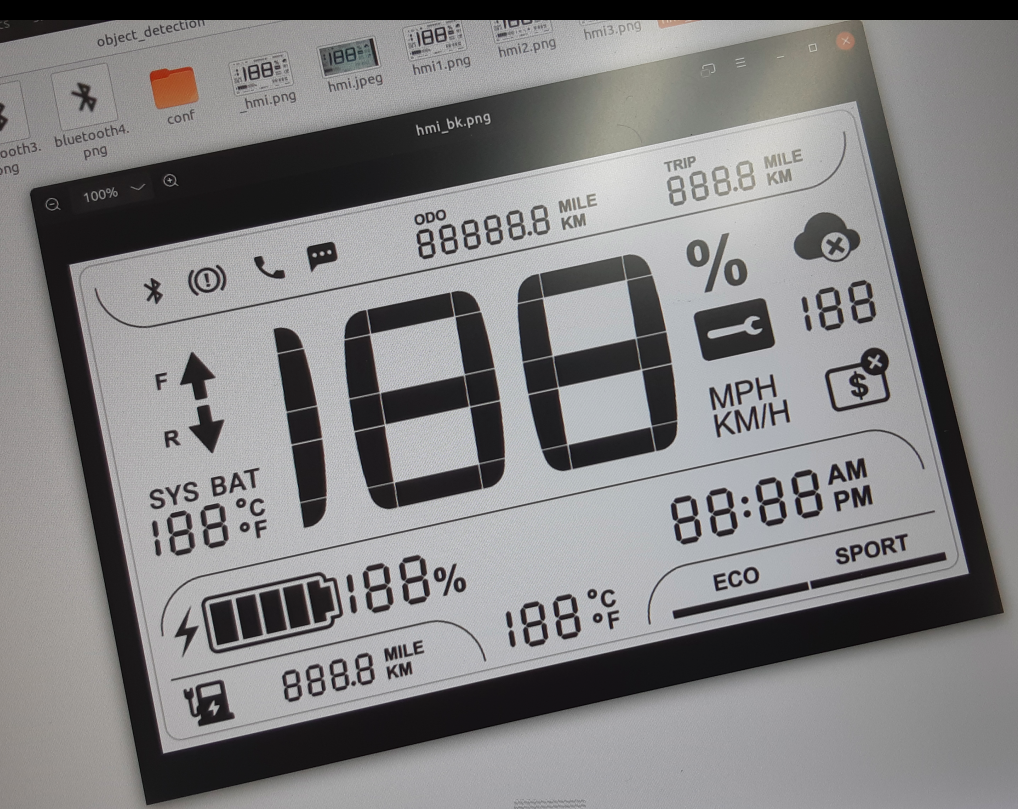bluetooth_on: (138, 273, 171, 309)
braking_on: (184, 261, 232, 300)
calling_on: (250, 252, 289, 285)
connection_lost: (787, 209, 867, 267)
error_code: (690, 297, 778, 365)
low_battery: (180, 678, 240, 728)
sms_on: (303, 239, 342, 274)
vin_id: (821, 344, 898, 413)
